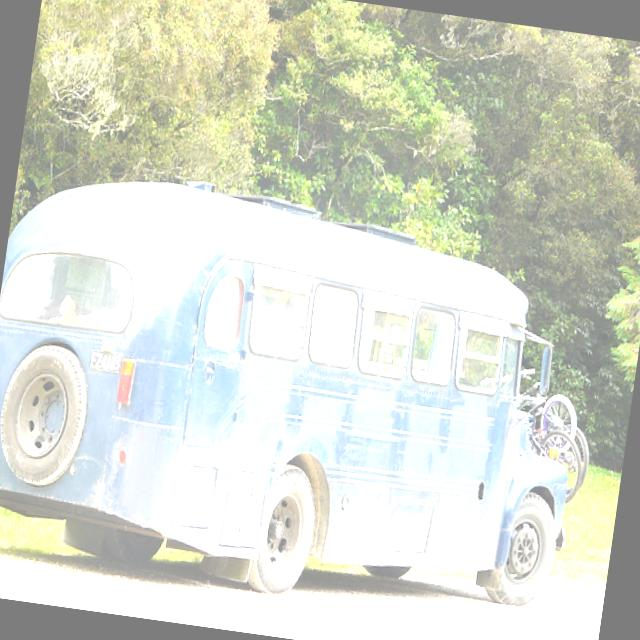Vehicle: (0, 154, 605, 633)
